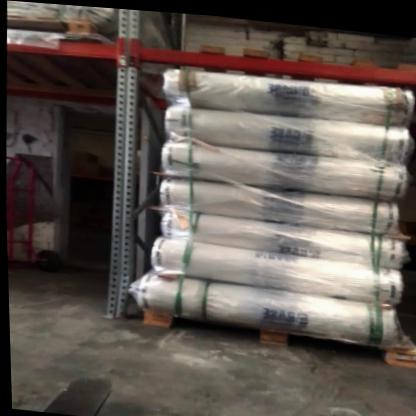vertical_damage: (86, 263, 137, 322)
